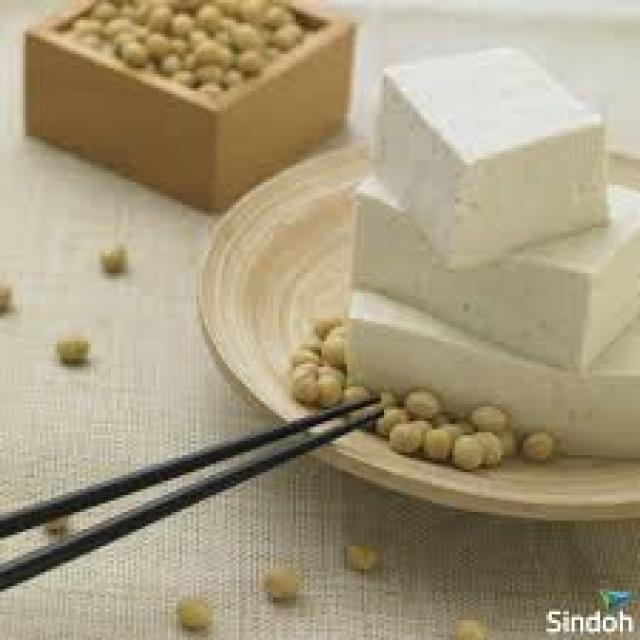tofu: (370, 37, 640, 387)
